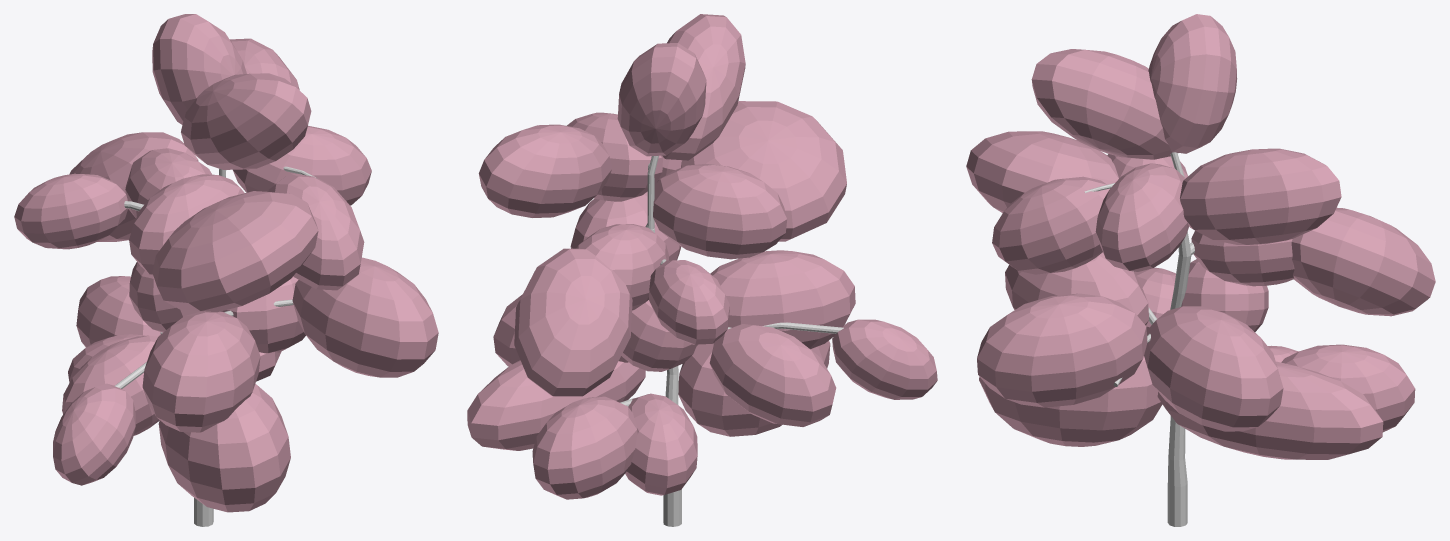
File: cherrytree.gltf
The picture shows the model from 3 angles, left to right: view 1: azimuth 30°, elevation 25°; view 2: azimuth 150°, elevation 25°; view 3: azimuth 270°, elevation 25°; orthographic projection. The views are drawn at different scales.
Visible parts, largest first — view 1: node_MeshObject27942912-PolyPaper21; view 2: node_MeshObject27942912-PolyPaper21; view 3: node_MeshObject27942912-PolyPaper21.
Part boxes in pixels (bbox=[...]): node_MeshObject27942912-PolyPaper21: bbox=[14, 14, 438, 526]; node_MeshObject27942912-PolyPaper21: bbox=[467, 14, 937, 526]; node_MeshObject27942912-PolyPaper21: bbox=[966, 14, 1435, 526].
Size of the model in its own units: 3.98 by 5.28 by 4.48.
